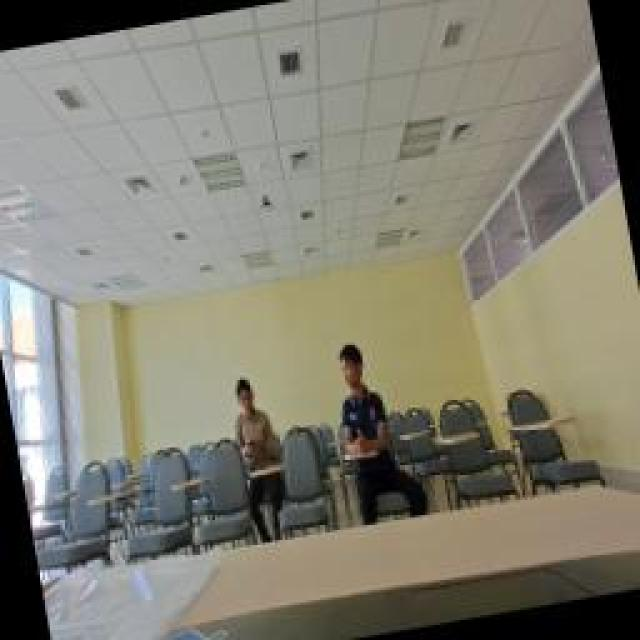phone: (220, 367, 282, 475)
study: (322, 335, 398, 460)
